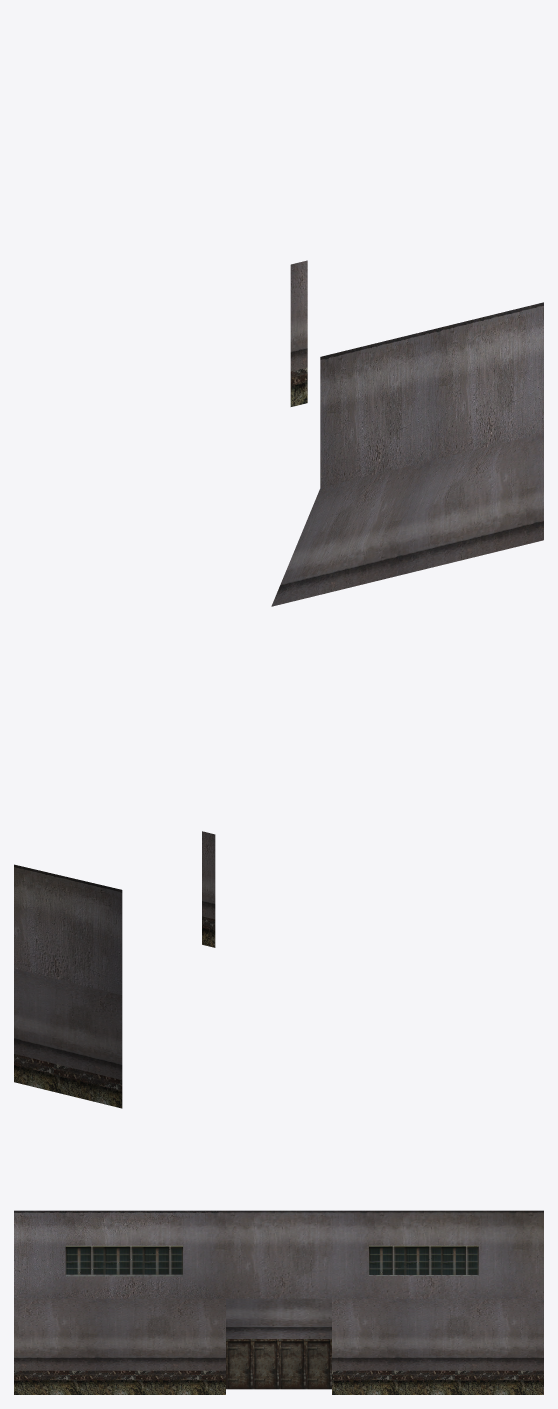
The model's file is M10_SmallSpace02.glb.
3 renders of one model, top to bottom at view 1: azimuth 30°, elevation 25°; view 2: azimuth 150°, elevation 25°; view 3: azimuth 270°, elevation 25°, orthographic. The views are drawn at different scales.
Visible parts, largest first — view 1: M10_SMALLSPACE02; view 2: M10_SMALLSPACE02; view 3: M10_SMALLSPACE02.
Part boxes in pixels (x1,y1,x2,y2): M10_SMALLSPACE02: (271, 260, 543, 606); M10_SMALLSPACE02: (14, 831, 215, 1108); M10_SMALLSPACE02: (14, 1210, 543, 1394).
Size of the model in its own units: 8 by 7.71 by 20.
4 materials, 4 textured.
